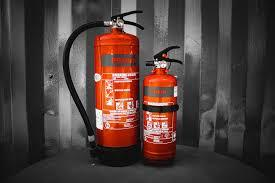wall-mounted: (62, 9, 144, 169), (143, 45, 182, 162)
